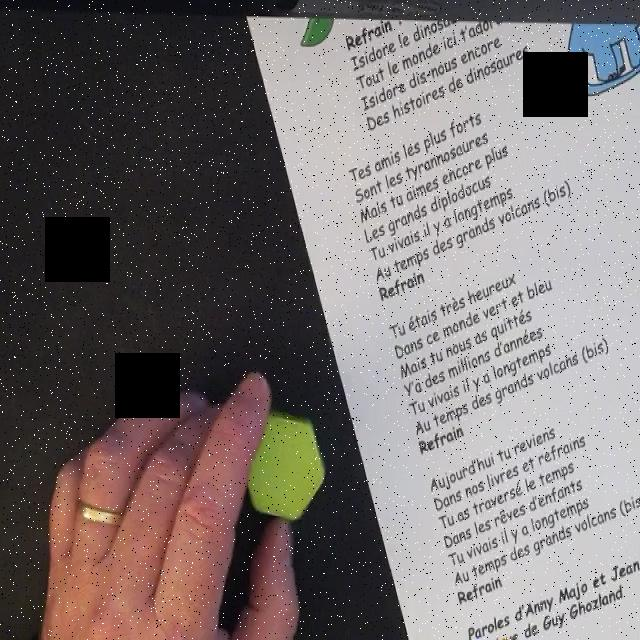hexagon: (235, 414, 325, 523)
